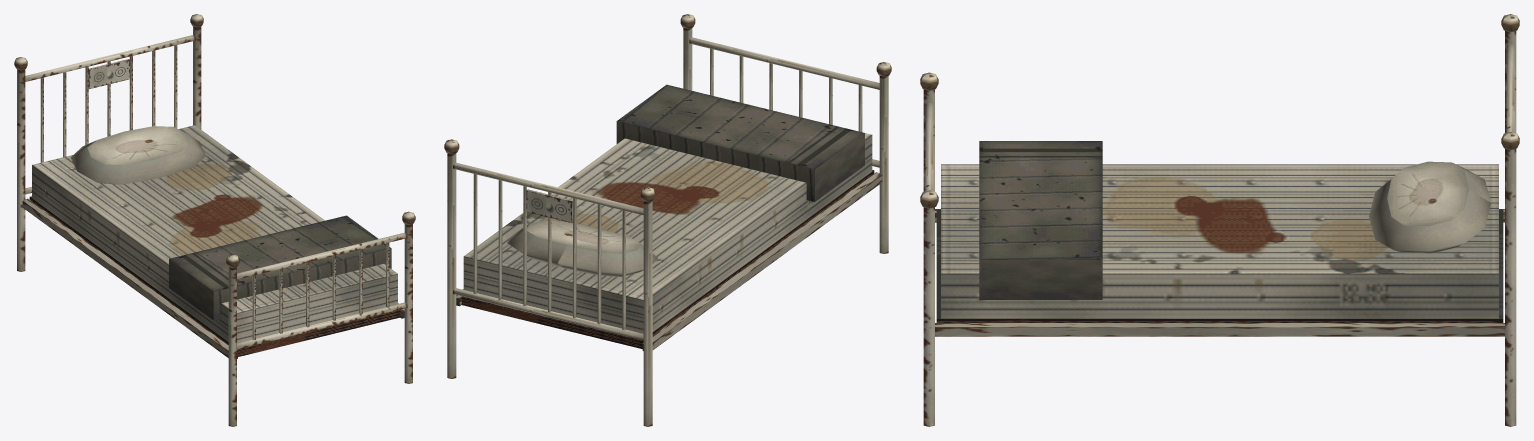
The model's file is bed_single_metal.obj.
The picture shows the model from 3 angles, left to right: view 1: azimuth 30°, elevation 25°; view 2: azimuth 150°, elevation 25°; view 3: azimuth 270°, elevation 25°; orthographic projection. The views are drawn at different scales.
Visible parts, largest first — view 1: bed_single_metal; view 2: bed_single_metal; view 3: bed_single_metal.
Part boxes in pixels (bbox=[...]): bed_single_metal: bbox=[14, 14, 415, 426]; bed_single_metal: bbox=[444, 14, 891, 426]; bed_single_metal: bbox=[920, 14, 1519, 426].
Bounding box in the file's own units: 1.02 × 1.1 × 2.04.
1 material, 1 textured.
